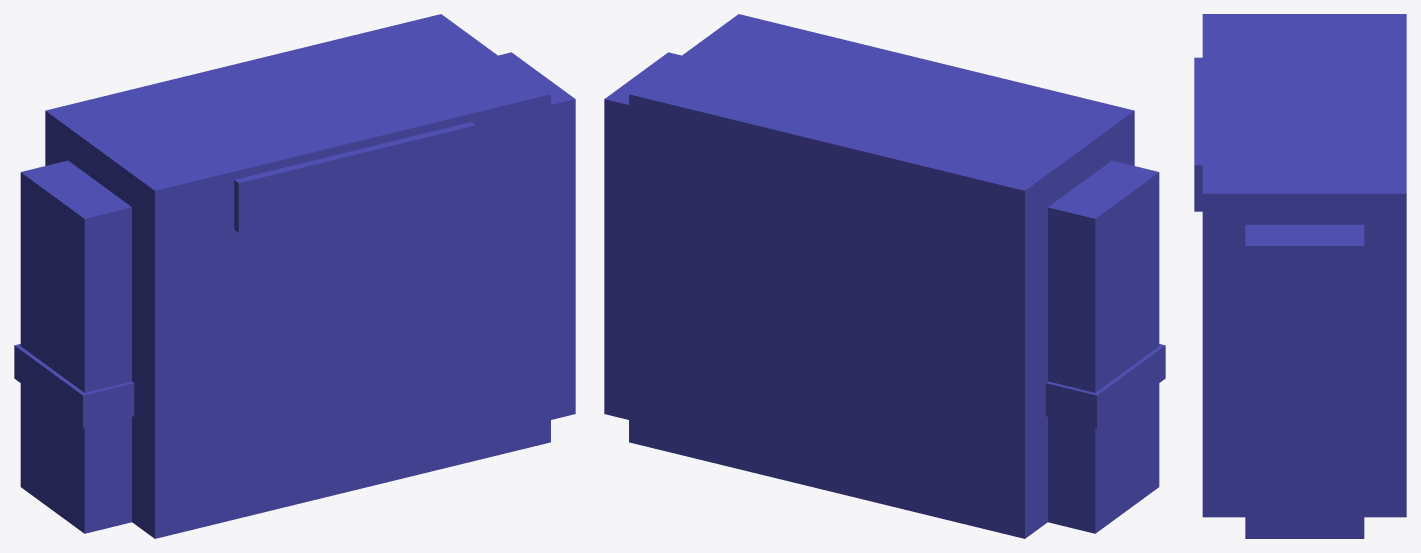
The model's file is female_varsity_jacket.glb.
The picture shows the model from 3 angles, left to right: view 1: azimuth 30°, elevation 25°; view 2: azimuth 150°, elevation 25°; view 3: azimuth 270°, elevation 25°; orthographic projection. The views are drawn at different scales.
Parts seen in each view (by area): view 1: VarsityJacket; view 2: VarsityJacket; view 3: VarsityJacket.
Part boxes in pixels (x1,y1,x2,y2): VarsityJacket: (14,14,575,538); VarsityJacket: (604,14,1165,538); VarsityJacket: (1194,14,1406,538).
Size of the model in its own units: 0.625 by 0.42 by 0.25.
